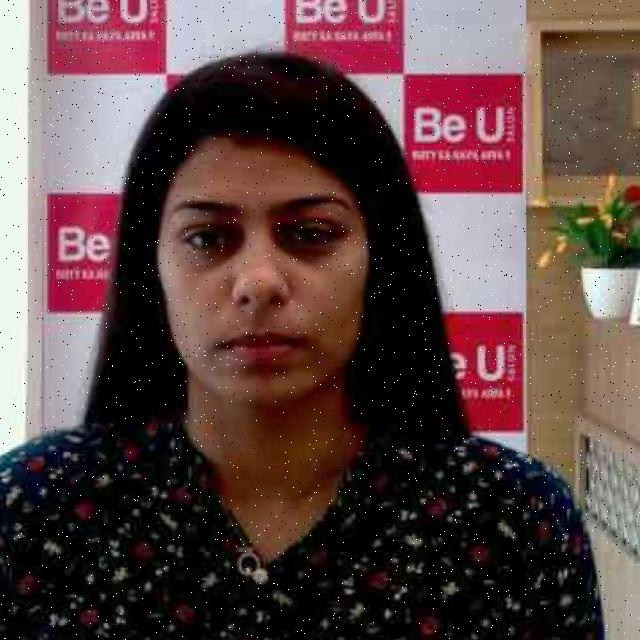puffy_eyes: (196, 228, 244, 266), (270, 226, 314, 261)
